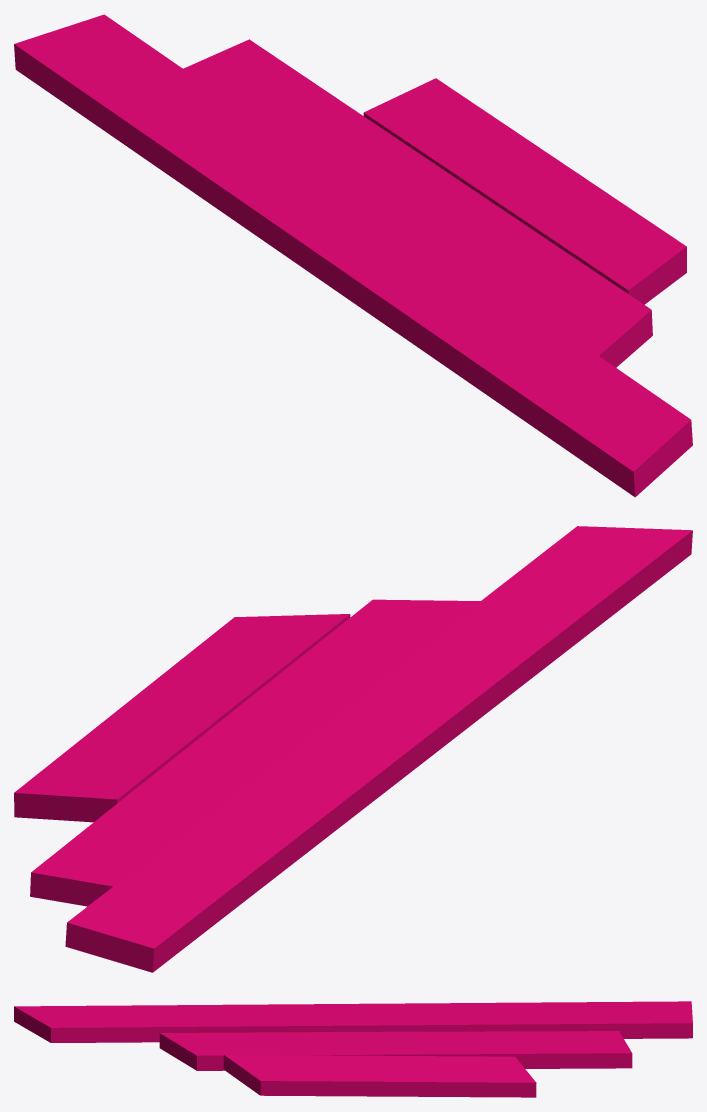
File: House_Wood_Debris_09.fbx
The picture shows the model from 3 angles, top to bottom: view 1: azimuth 30°, elevation 25°; view 2: azimuth 150°, elevation 25°; view 3: azimuth 270°, elevation 25°; orthographic projection. The views are drawn at different scales.
Visible parts, largest first — view 1: House_Wood_Debris_09; view 2: House_Wood_Debris_09; view 3: House_Wood_Debris_09.
Boxes of the visible parts, x1,y1,x2,y2 form: House_Wood_Debris_09: (14, 14, 692, 497); House_Wood_Debris_09: (14, 526, 692, 972); House_Wood_Debris_09: (14, 1001, 692, 1097).
Size of the model in its own units: 48.15 by 6.43 by 170.
